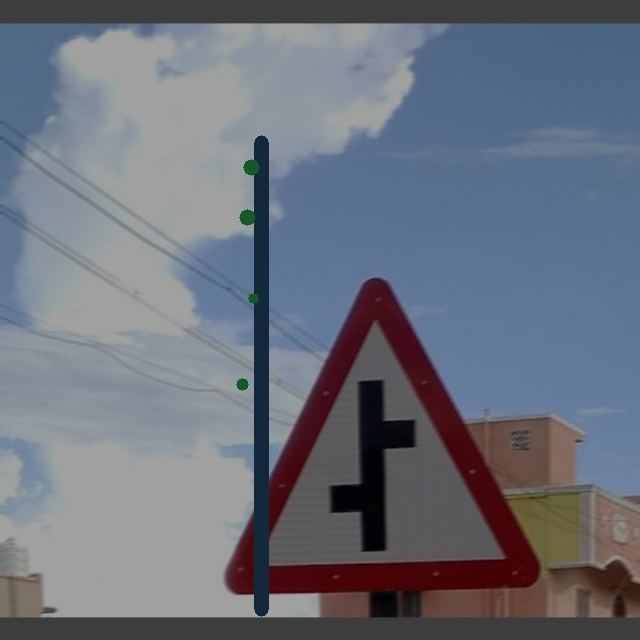Staggered_Intersection: (214, 252, 539, 599)
